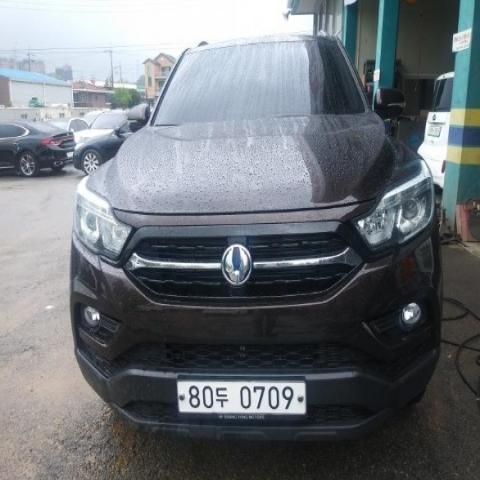LP: (168, 368, 311, 429)
